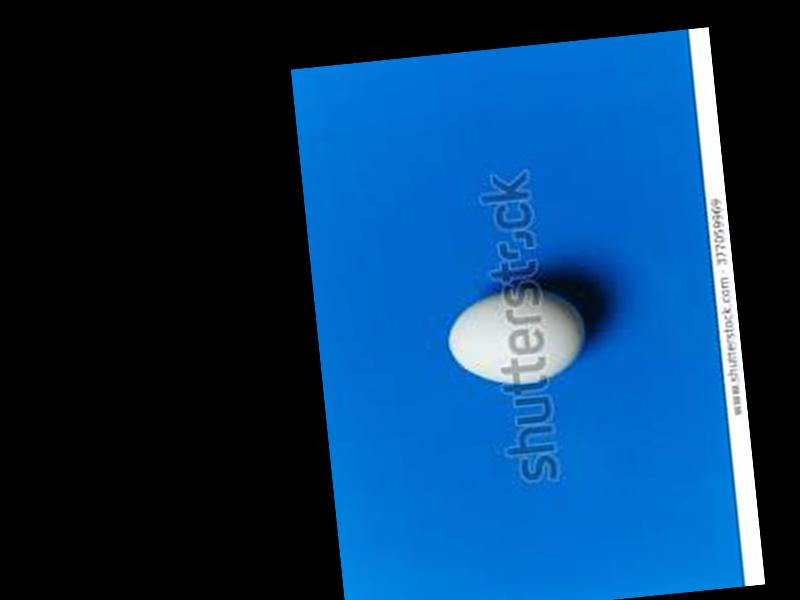Eggs: (440, 283, 589, 389)
